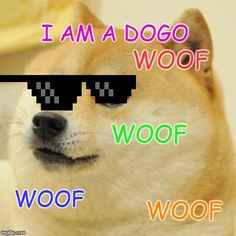doge: (12, 1, 229, 234)
